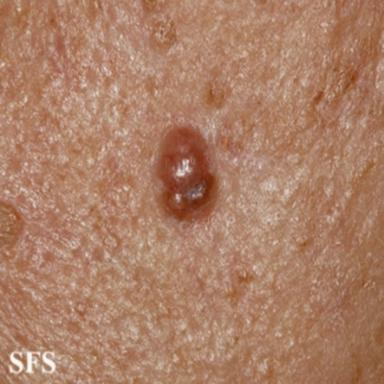basal-cell-carcinoma: (157, 124, 219, 222)
